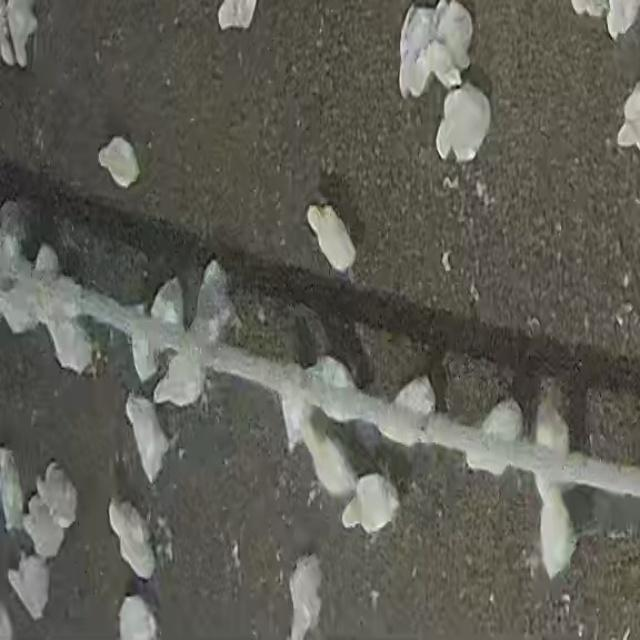chicken: (298, 409, 358, 499), (428, 85, 492, 167), (307, 200, 360, 286), (190, 259, 240, 346), (124, 395, 169, 488), (536, 479, 576, 583), (470, 399, 523, 477), (44, 300, 97, 378), (107, 497, 155, 581), (375, 377, 438, 439), (341, 474, 400, 536), (434, 0, 482, 72), (400, 1, 435, 95), (152, 347, 204, 410), (286, 554, 324, 640), (539, 398, 574, 491), (21, 496, 67, 560), (6, 556, 51, 620), (37, 461, 79, 528), (96, 138, 142, 195)
